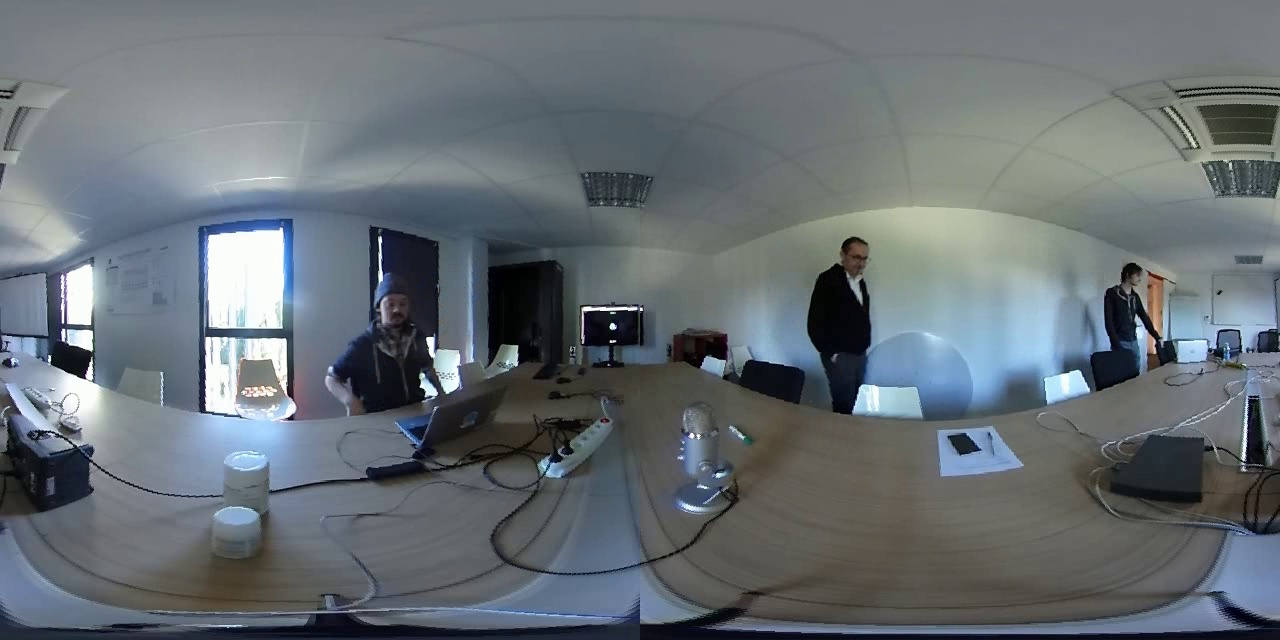person: (332, 262, 438, 389), (807, 228, 894, 379), (1098, 256, 1174, 365)
